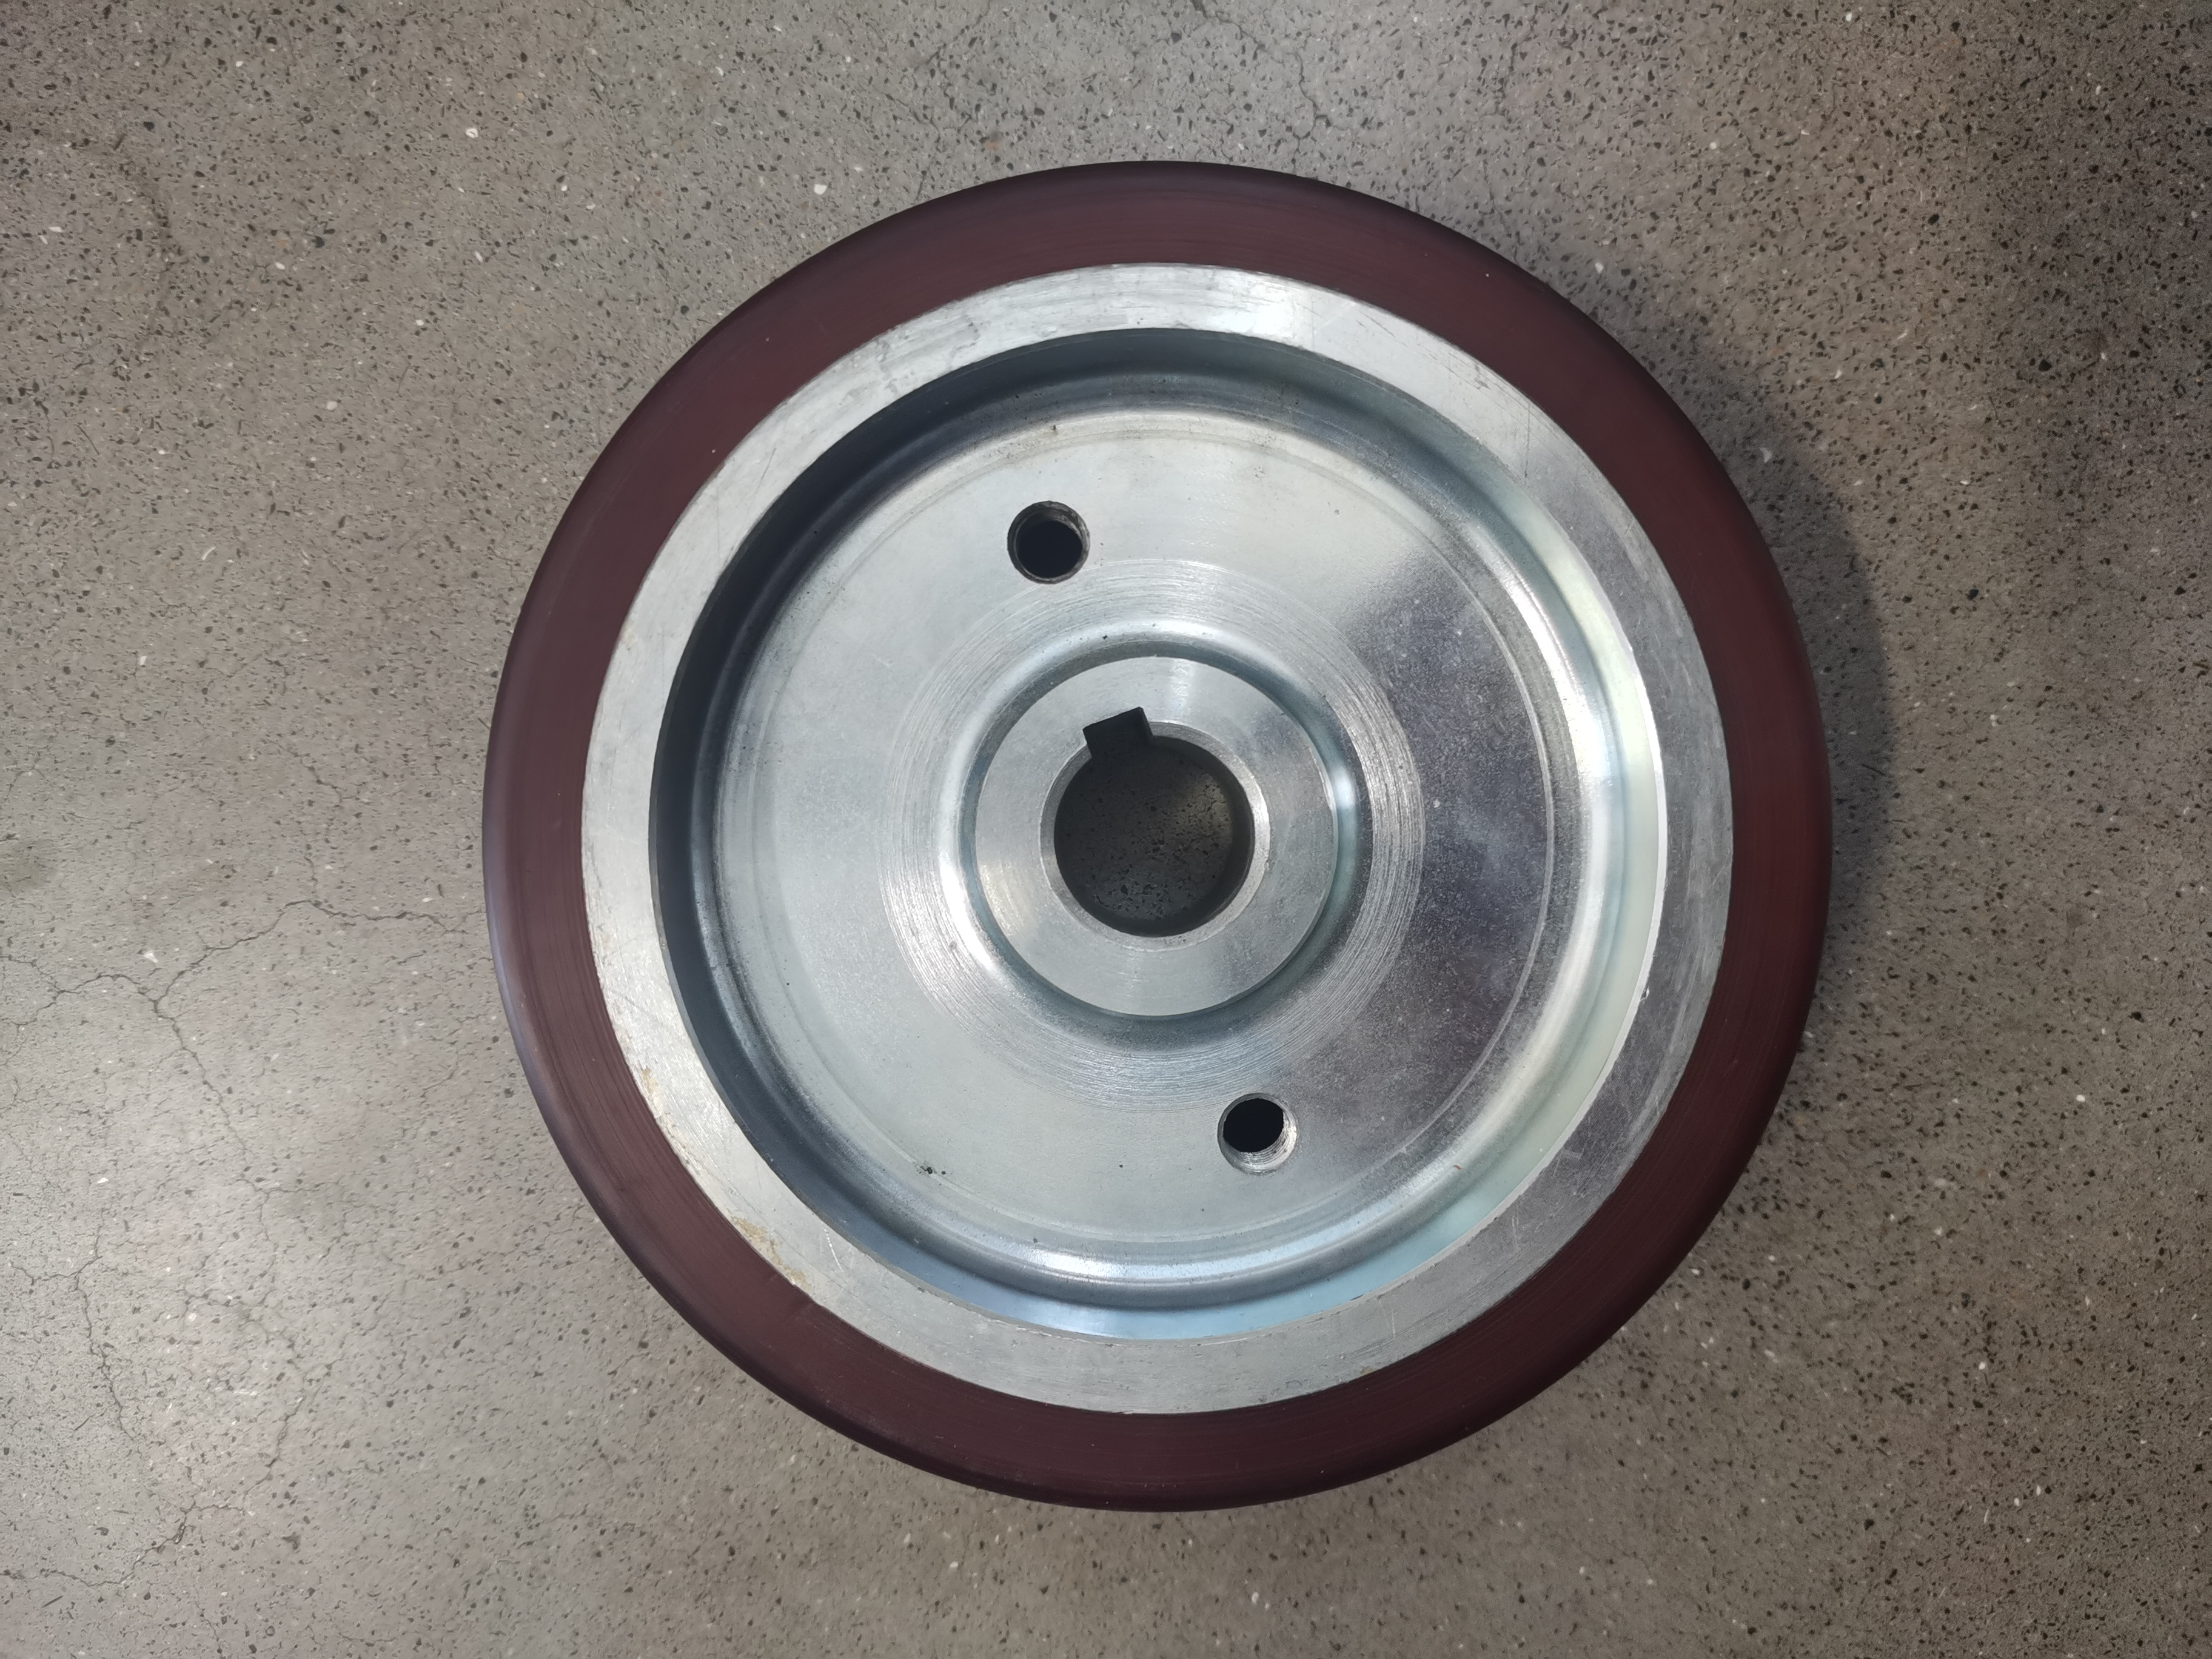good_wheel: (462, 143, 1846, 1537)
